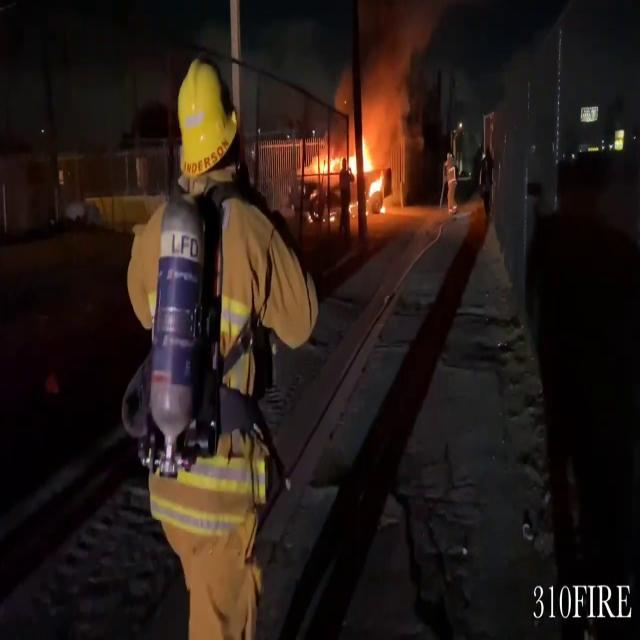Fire: (308, 115, 389, 212)
Smoke: (336, 0, 432, 120)
